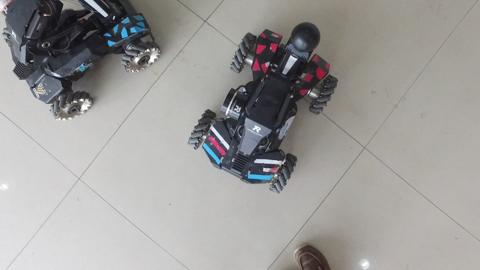chariot: (179, 8, 343, 201), (1, 1, 165, 135)
